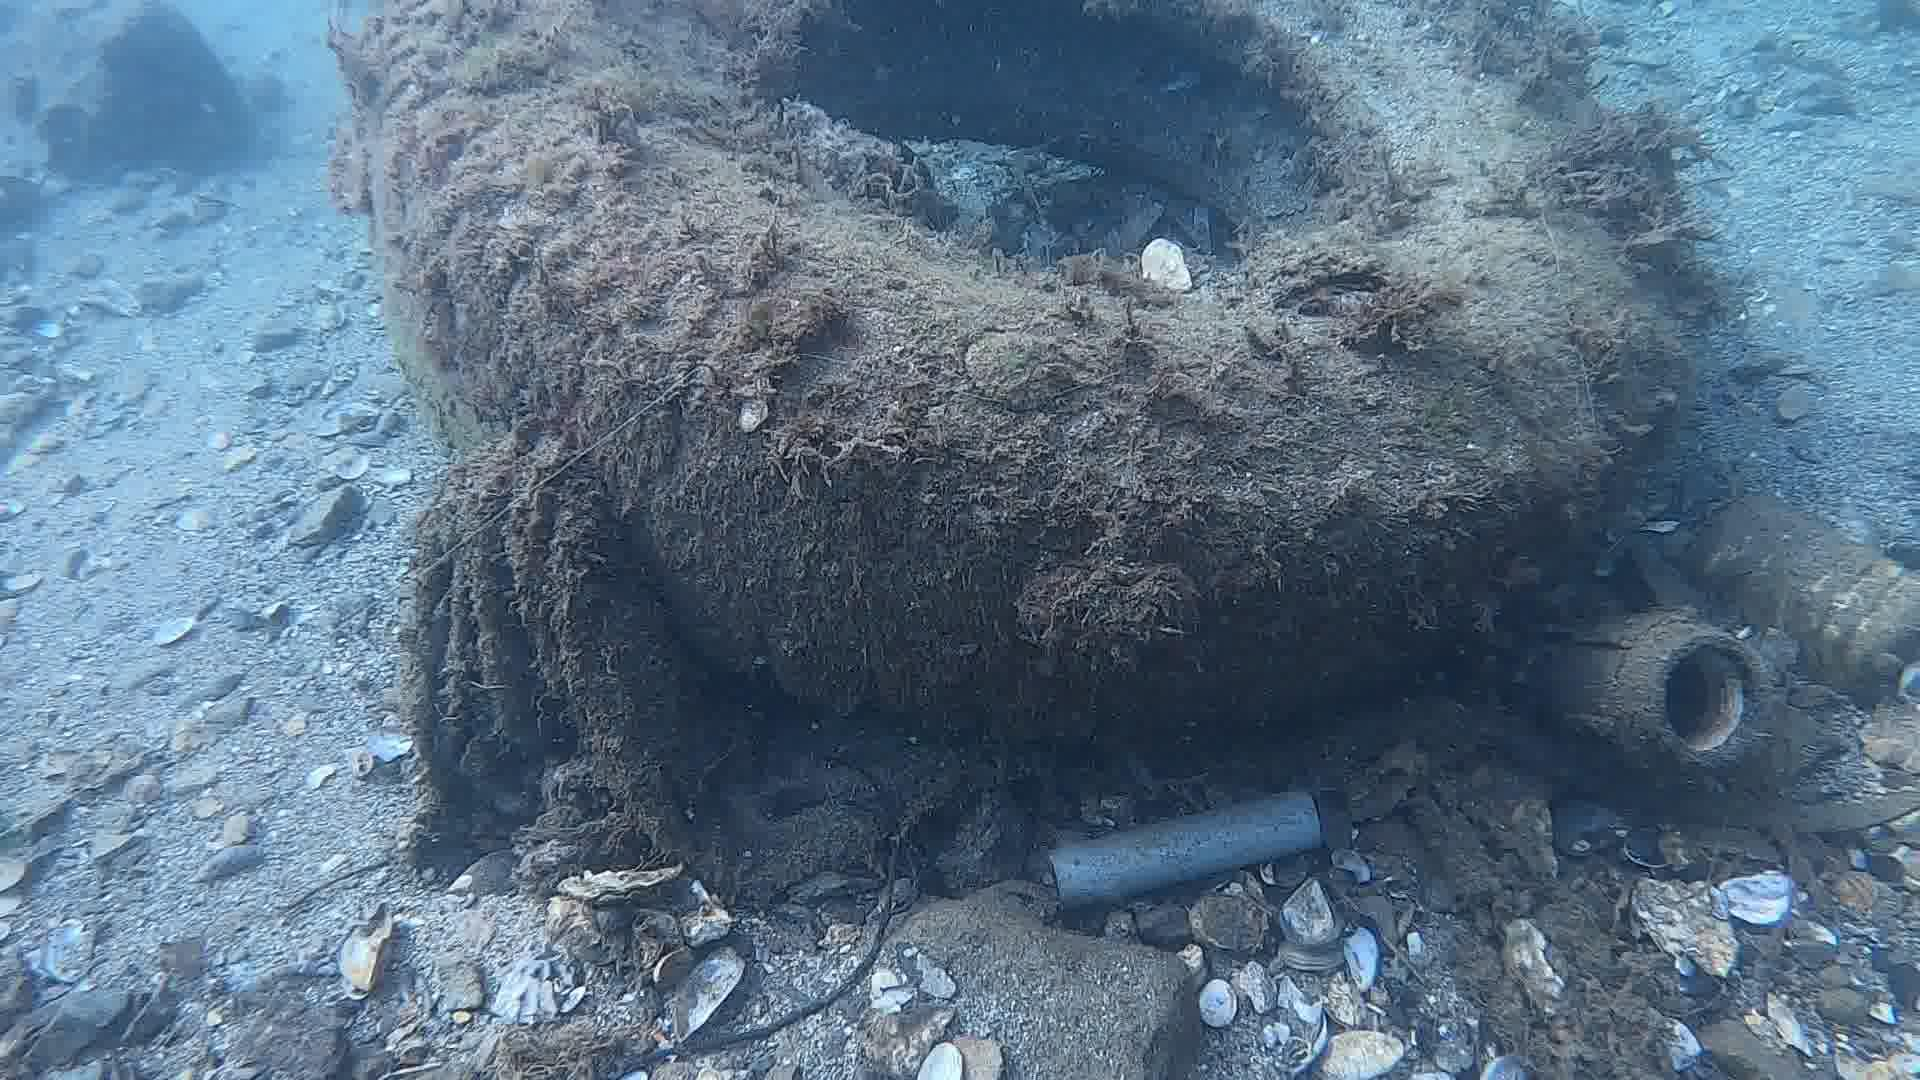tire: (351, 0, 1669, 746)
